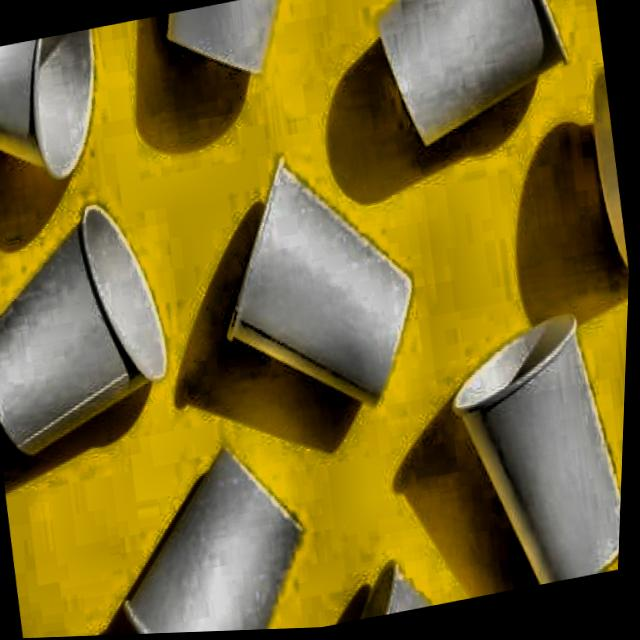Cup: (201, 148, 442, 470), (433, 277, 631, 602), (0, 199, 204, 473), (88, 433, 322, 637), (368, 0, 584, 158)
